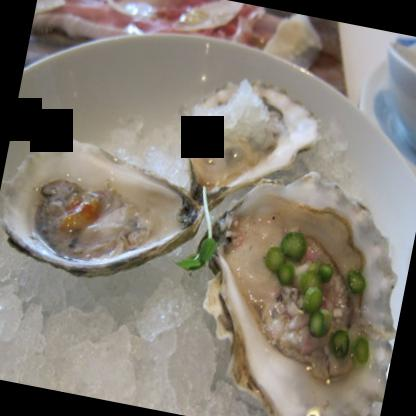oyster: (164, 160, 415, 415), (0, 132, 210, 301), (175, 69, 315, 202)
